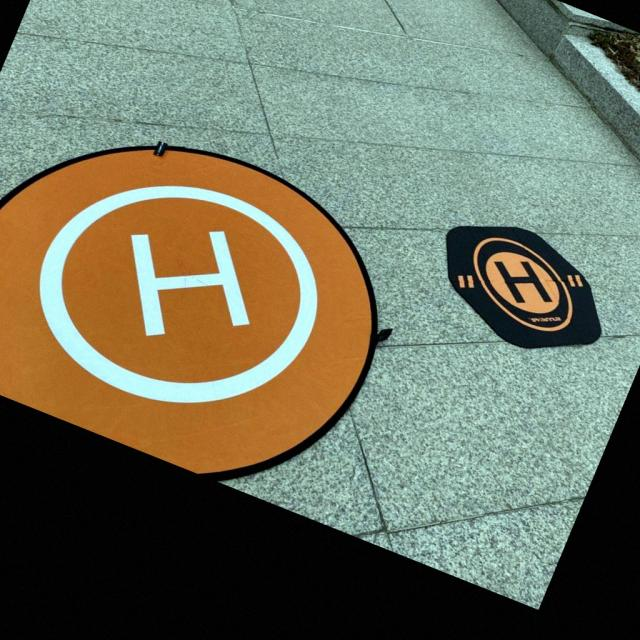helipad: (32, 175, 324, 408), (471, 234, 575, 334)
